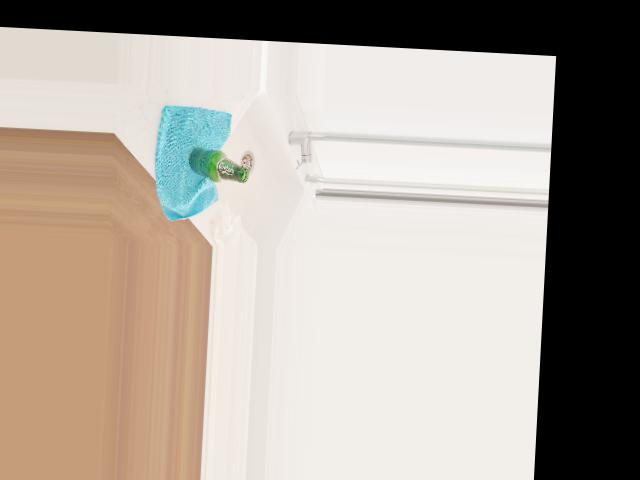beer: (186, 147, 249, 184)
